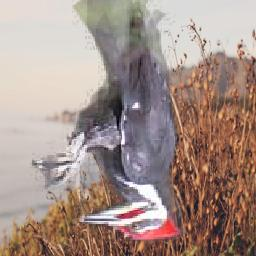Woodpecker: (30, 1, 186, 242)
